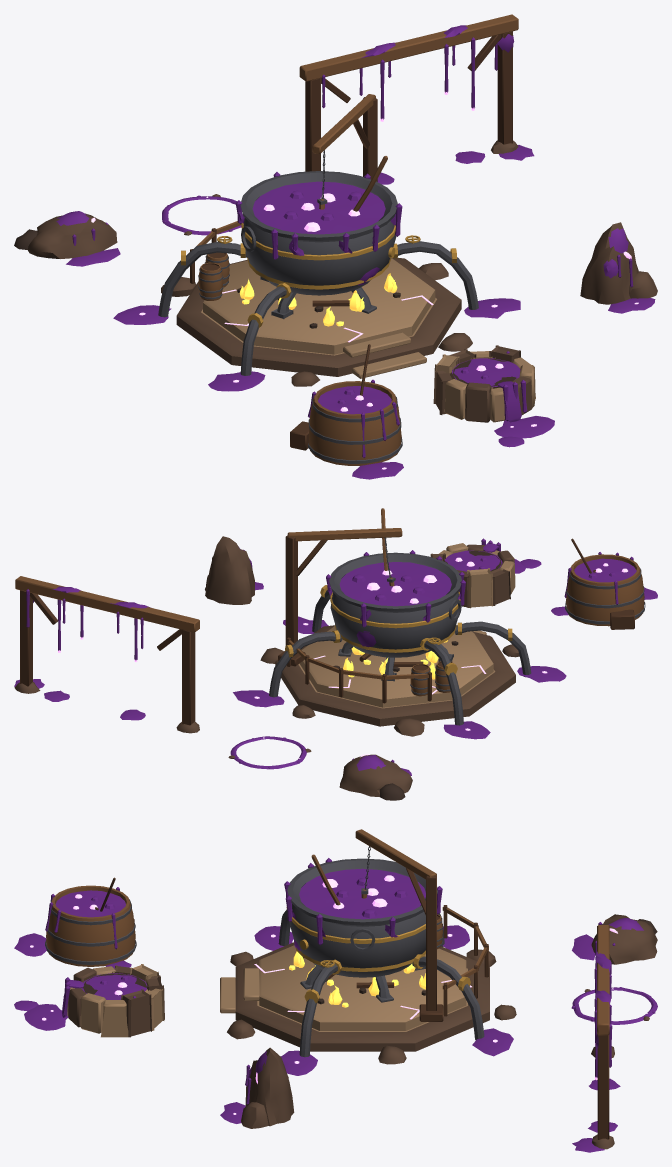
3 renders of one model, top to bottom at view 1: azimuth 30°, elevation 25°; view 2: azimuth 150°, elevation 25°; view 3: azimuth 270°, elevation 25°, orthographic. The views are drawn at different scales.
Parts seen in each view (by area): view 1: jam_cauldron, jam_beams, jam_vat_a, jam_vat_b, jam_rock_a, jam_rock_b, jam_puddle_rim; view 2: jam_cauldron, jam_beams, jam_vat_a, jam_vat_b, jam_rock_a, jam_rock_b, jam_puddle_rim; view 3: jam_cauldron, jam_vat_b, jam_vat_a, jam_beams, jam_rock_a, jam_rock_b, jam_puddle_rim.
Boxes of the visible parts, bbox=[...] form: jam_cauldron: bbox=[113, 94, 520, 391]; jam_beams: bbox=[299, 14, 534, 184]; jam_vat_a: bbox=[290, 344, 403, 479]; jam_vat_b: bbox=[433, 345, 554, 447]; jam_rock_a: bbox=[580, 222, 657, 313]; jam_rock_b: bbox=[14, 211, 120, 266]; jam_puddle_rim: bbox=[162, 194, 243, 235]; jam_cauldron: bbox=[233, 508, 566, 739]; jam_beams: bbox=[14, 576, 199, 733]; jam_vat_a: bbox=[551, 538, 657, 629]; jam_vat_b: bbox=[430, 538, 541, 608]; jam_rock_a: bbox=[205, 536, 263, 604]; jam_rock_b: bbox=[339, 754, 412, 800]; jam_puddle_rim: bbox=[228, 736, 311, 769]; jam_cauldron: bbox=[220, 829, 516, 1075]; jam_vat_b: bbox=[14, 964, 164, 1037]; jam_vat_a: bbox=[14, 877, 136, 968]; jam_beams: bbox=[572, 925, 620, 1152]; jam_rock_a: bbox=[220, 1047, 294, 1128]; jam_rock_b: bbox=[572, 914, 657, 964]; jam_puddle_rim: bbox=[571, 987, 657, 1024].
Size of the model in its own units: 13.69 by 4.72 by 16.38.
